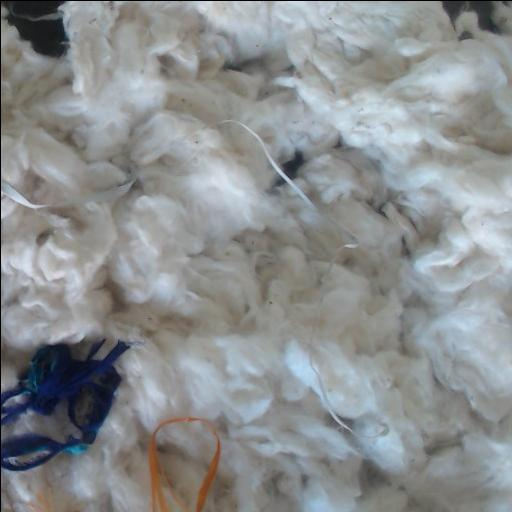cloth: (1, 340, 129, 470)
conveyor belt: (1, 1, 68, 57), (442, 1, 497, 32), (282, 151, 304, 177)
cotton: (1, 1, 512, 512), (159, 423, 215, 512)
thread: (306, 225, 388, 455), (221, 117, 338, 224), (149, 417, 220, 512), (1, 178, 134, 208), (166, 484, 192, 512), (30, 496, 49, 512)
